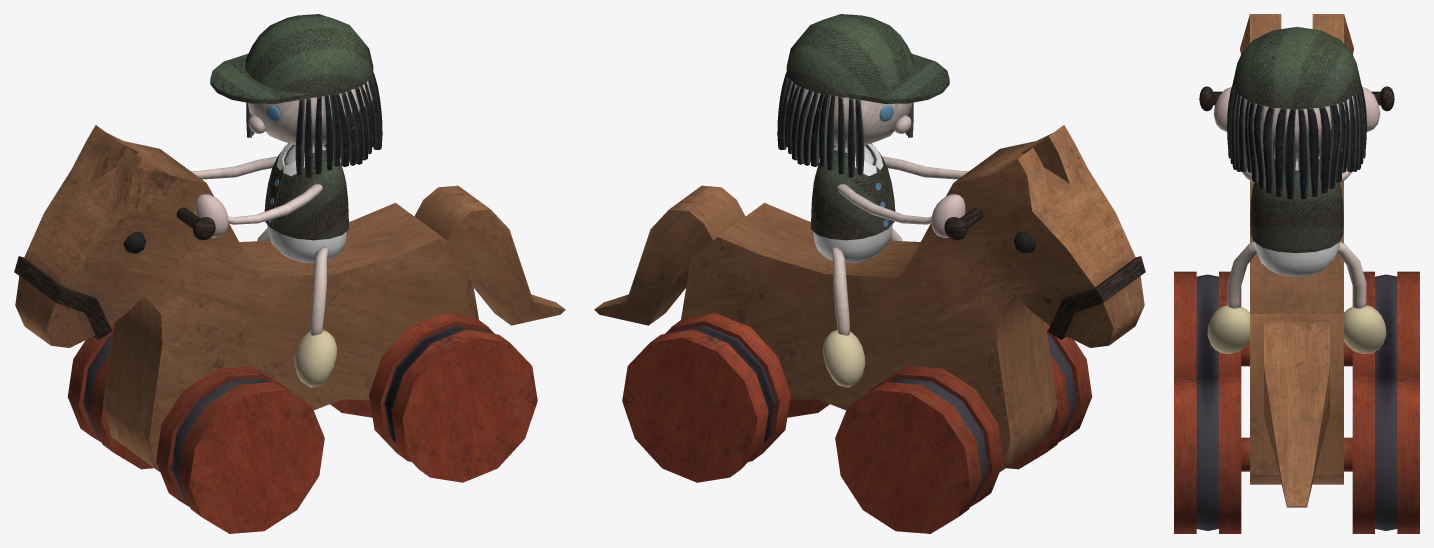
Rendered from Cavallino player.fbx.
3 renders of one model, left to right at view 1: azimuth 30°, elevation 25°; view 2: azimuth 150°, elevation 25°; view 3: azimuth 270°, elevation 25°, orthographic.
Visible parts, largest first — view 1: Cube.001, Cube.002, Cube.003; view 2: Cube.001, Cube.002, Cube.003; view 3: Cube.001, Cube.003, Cube.002.
Boxes of the visible parts, <box> form: Cube.001: <box>14,14,565,471</box>; Cube.002: <box>67,323,324,533</box>; Cube.003: <box>330,313,537,482</box>; Cube.001: <box>594,14,1145,471</box>; Cube.002: <box>835,323,1092,533</box>; Cube.003: <box>622,313,829,482</box>; Cube.001: <box>1199,14,1394,507</box>; Cube.003: <box>1174,375,1419,533</box>; Cube.002: <box>1174,271,1419,380</box>.
Bounding box in the file's own units: 398 × 315 × 158.
Materials: 1 (1 with a texture image).
